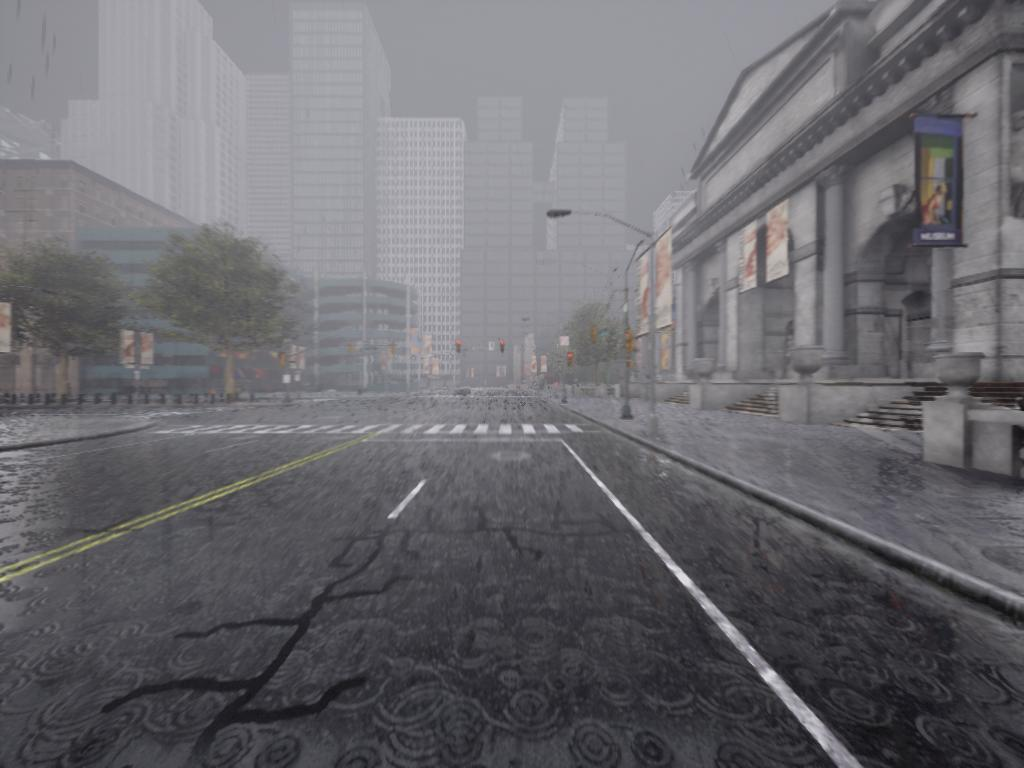traffic_light: (566, 355, 575, 369), (455, 343, 464, 356), (498, 341, 506, 351)
